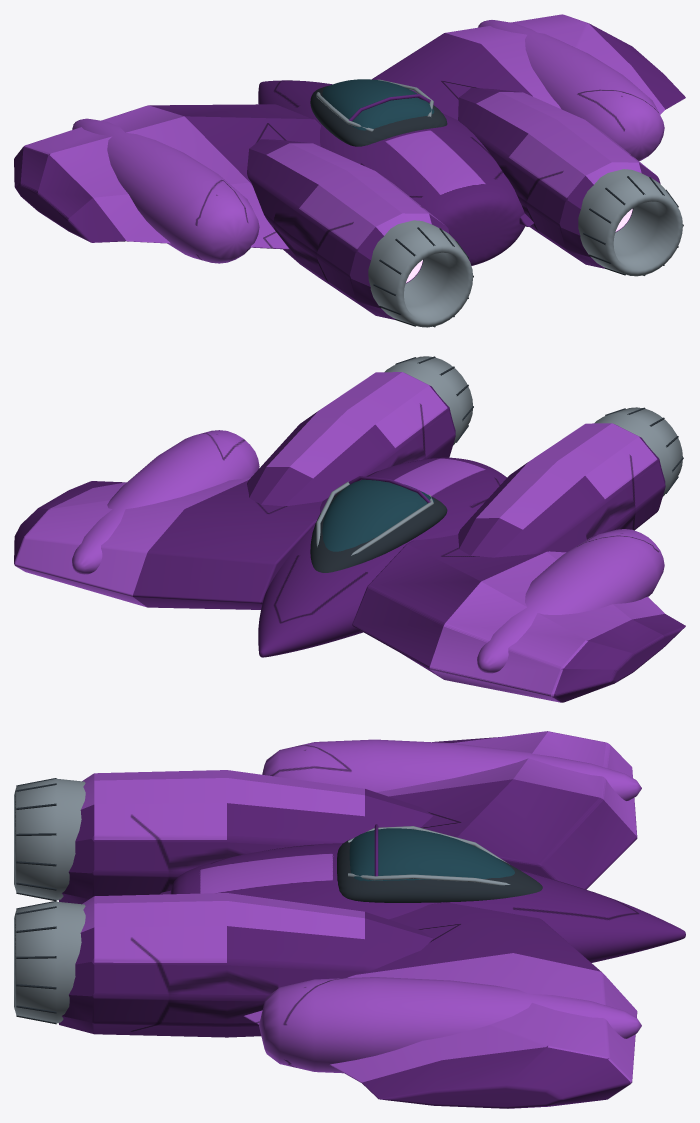
The picture shows the model from 3 angles, top to bottom: view 1: azimuth 30°, elevation 25°; view 2: azimuth 150°, elevation 25°; view 3: azimuth 270°, elevation 25°; orthographic projection. The views are drawn at different scales.
Visible parts, largest first — view 1: SolarHammerV2; view 2: SolarHammerV2; view 3: SolarHammerV2.
Part boxes in pixels (x1=…): SolarHammerV2: x1=14, y1=14, x2=685, y2=327; SolarHammerV2: x1=14, y1=356, x2=685, y2=702; SolarHammerV2: x1=14, y1=731, x2=685, y2=1108.
Size of the model in its own units: 3.3 by 0.6313 by 2.68.
6 materials, 2 textured.
